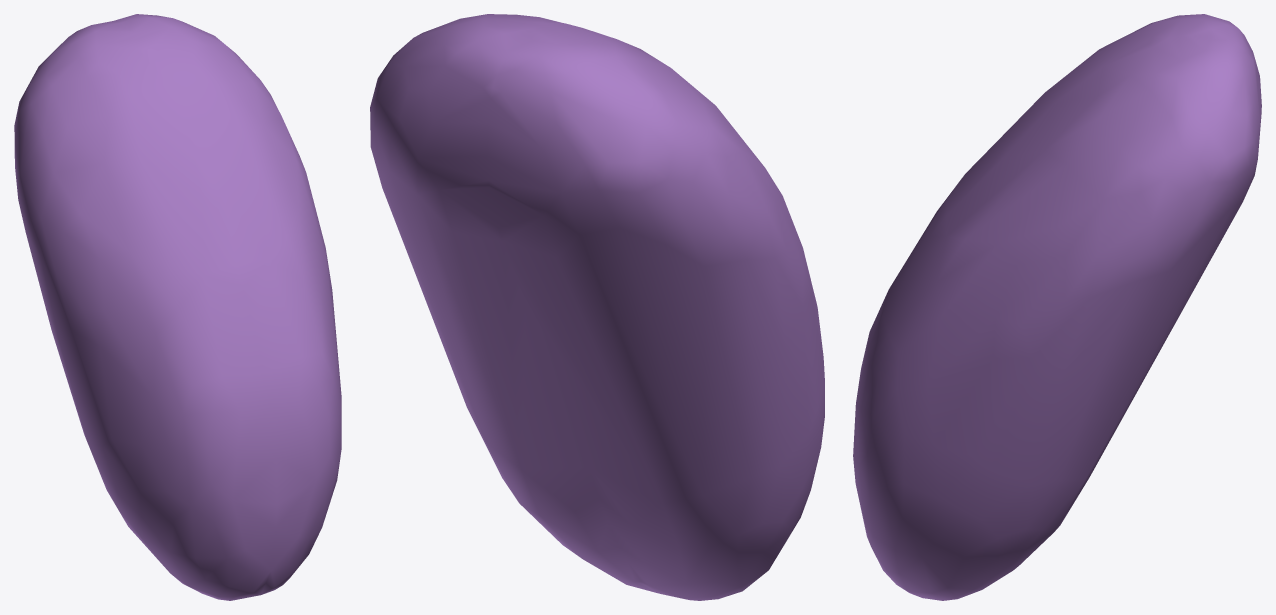
3 views of the same model, side by side, from view 1: azimuth 30°, elevation 25°; view 2: azimuth 150°, elevation 25°; view 3: azimuth 270°, elevation 25° (orthographic). The views are drawn at different scales.
Parts seen in each view (by area): view 1: 松果体; view 2: 松果体; view 3: 松果体.
Boxes of the visible parts, x1,y1,x2,y2 form: 松果体: [14, 14, 341, 600]; 松果体: [370, 14, 824, 600]; 松果体: [853, 14, 1261, 600].
Bounding box in the file's own units: 0.00937 × 0.0163 × 0.0109.
